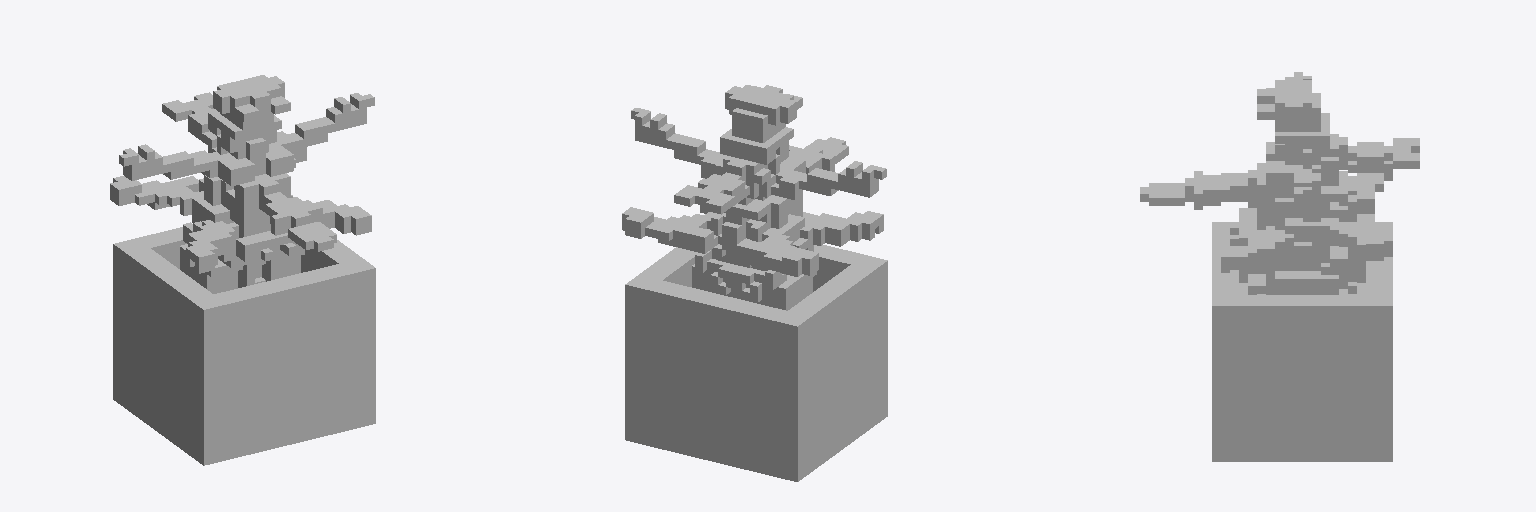
File: vase (small).obj
3 renders of one model, left to right at view 1: azimuth 30°, elevation 25°; view 2: azimuth 150°, elevation 25°; view 3: azimuth 270°, elevation 25°, orthographic.
Visible parts, largest first — view 1: vase (small); view 2: vase (small); view 3: vase (small).
Part boxes in pixels (left/top/right/bottom): vase (small): left=110, top=75, right=375, bottom=465; vase (small): left=622, top=85, right=887, bottom=481; vase (small): left=1140, top=72, right=1419, bottom=461.
Size of the model in its own units: 32 by 40 by 31.